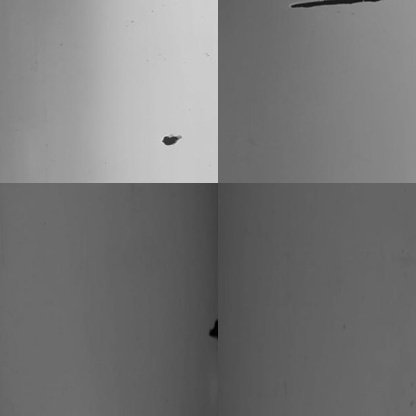fengxi: (288, 1, 373, 10)
kongdong: (162, 133, 182, 148), (205, 322, 220, 339)
